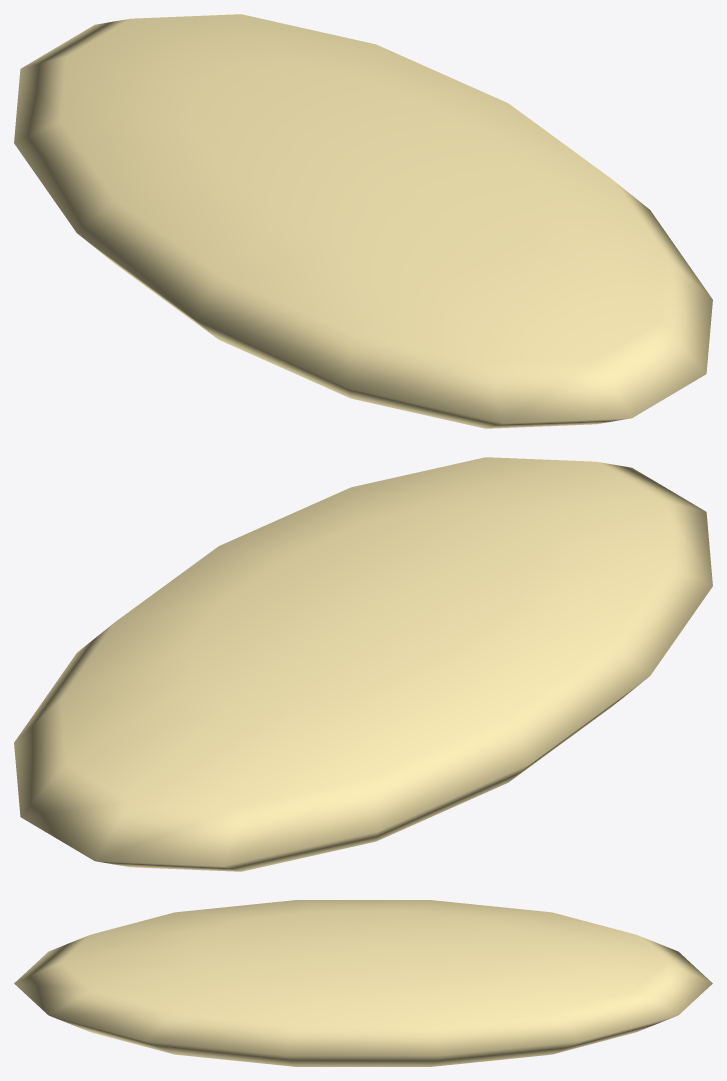
The model's file is lamppost_glass.obj.
3 views of the same model, one above another, from view 1: azimuth 30°, elevation 25°; view 2: azimuth 150°, elevation 25°; view 3: azimuth 270°, elevation 25° (orthographic). The views are drawn at different scales.
Visible parts, largest first — view 1: lamppost_glass; view 2: lamppost_glass; view 3: lamppost_glass.
Boxes of the visible parts, x1,y1,x2,y2 form: lamppost_glass: (14, 14, 712, 428); lamppost_glass: (14, 457, 712, 871); lamppost_glass: (14, 900, 712, 1066).
Bounding box in the file's own units: 0.2925 × 0.08 × 0.6.
